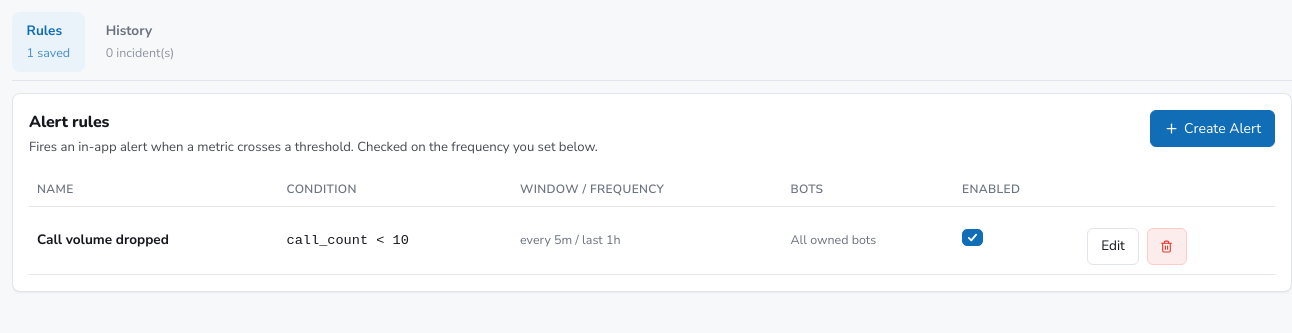
Test case: AlertsPanel delete round-trip › surfaces the error banner and keeps the rule in the list when delete fails
The width and height of the screenshot is (1292, 333).
Expected: the text "Call volume dropped" is shown, [37,230,169,249]
Step 1. Click the button with class "danger-button" → [1167, 247], box [1147,228,1187,265]
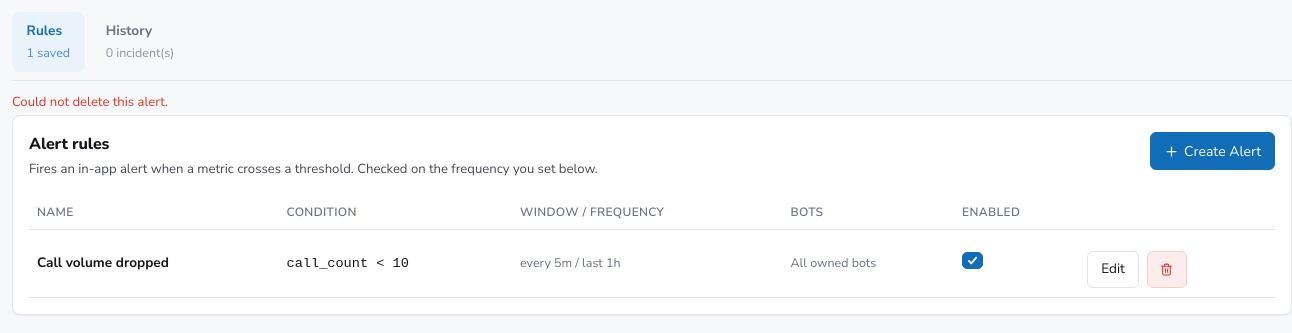
Expected: the text "Call volume dropped" is shown, [37,253,169,272]
Now the text "Could not delete this alert." is shown, box [12,92,168,110]
